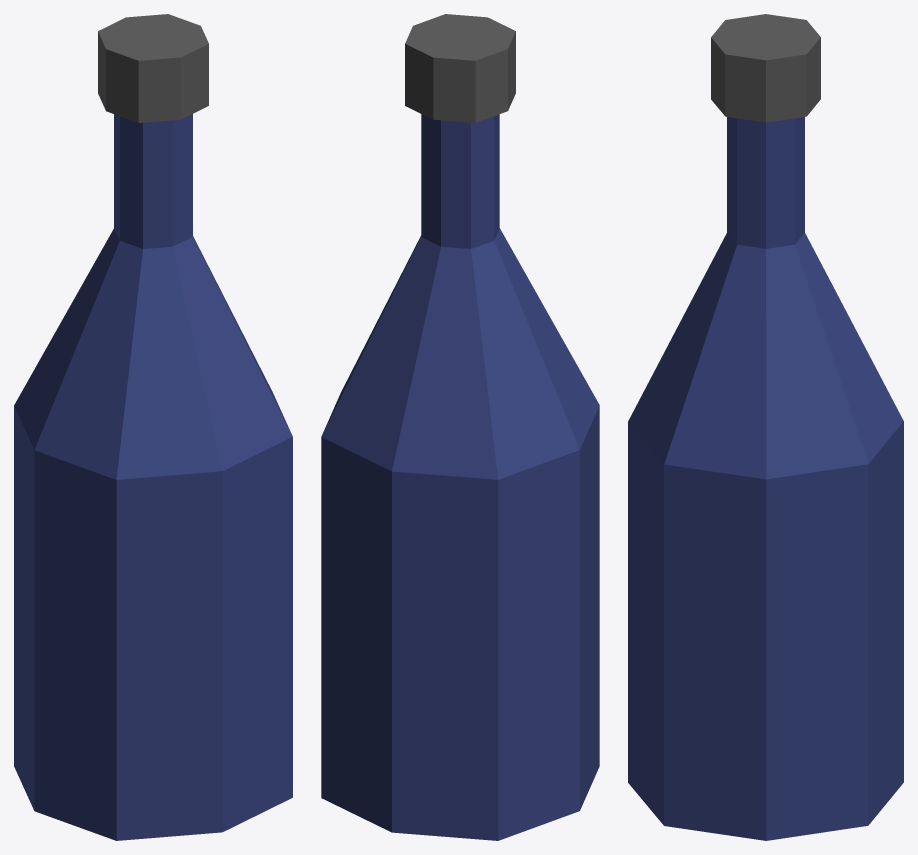
The model's file is Bottle_29.fbx.
The picture shows the model from 3 angles, left to right: view 1: azimuth 30°, elevation 25°; view 2: azimuth 150°, elevation 25°; view 3: azimuth 270°, elevation 25°; orthographic projection.
Parts seen in each view (by area): view 1: Bottle_29; view 2: Bottle_29; view 3: Bottle_29.
Part boxes in pixels (x1,y1,x2,y2): Bottle_29: (14,14,292,840); Bottle_29: (321,14,599,840); Bottle_29: (628,14,903,840).
Bounding box in the file's own units: 17.01 × 17.01 × 50.75.
